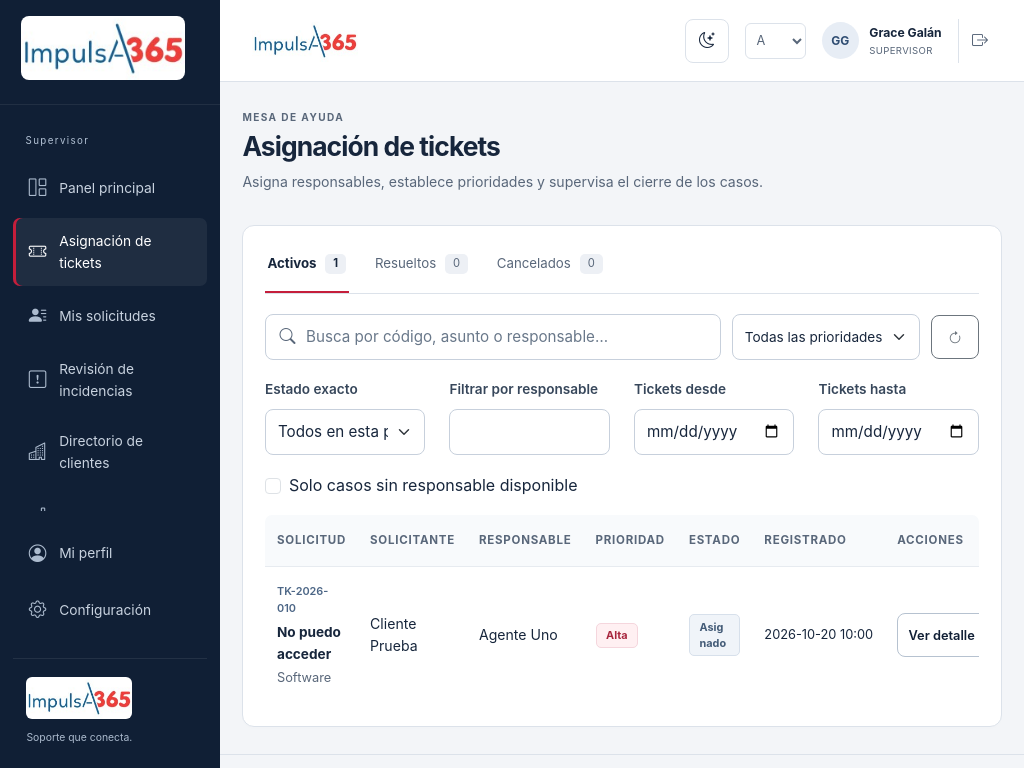
Test: Funciones por rol › el supervisor asigna un agente y prioridad y no recibe acciones de resolución técnica
Expected: the heading "Asignación de tickets" is shown, x1=242 y1=130 x2=500 y2=162
Click the button "Ver detalle" at (952, 635), box x1=897 y1=613 x2=1008 y2=657
(page scrolled)
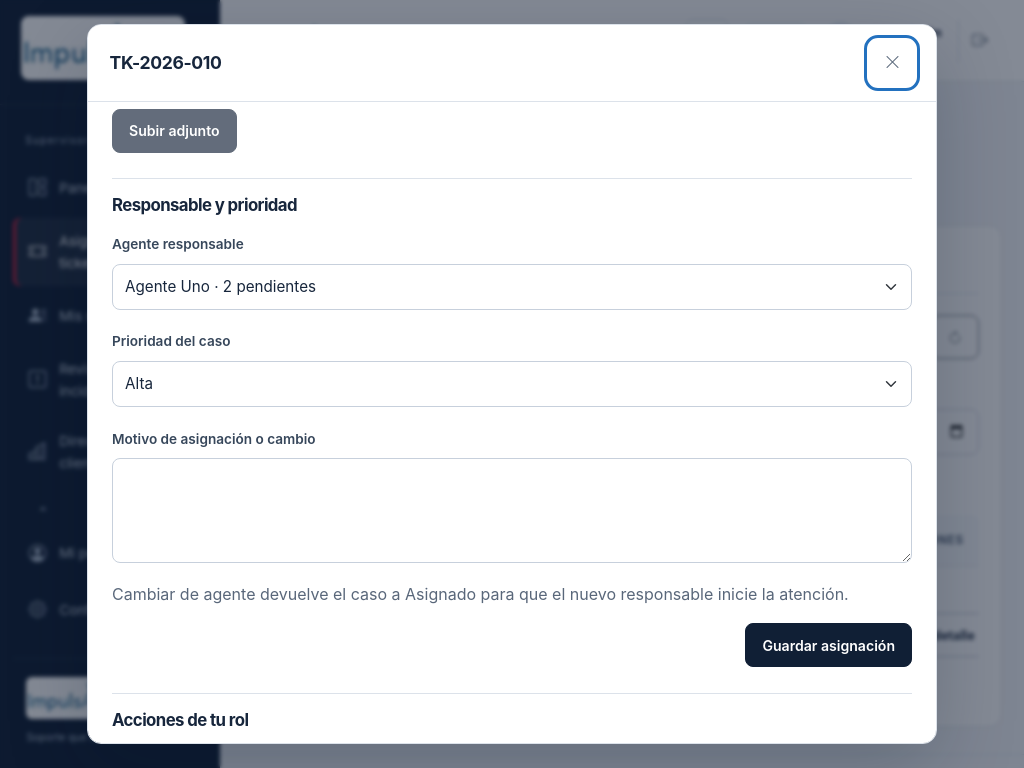
Result: the dropdown labelled "Agente responsable" shows "Agente Uno · 2 pendientes" at x1=112 y1=264 x2=912 y2=310
Select "Baja" in the dropdown labelled "Prioridad del caso" at (512, 384), box x1=112 y1=361 x2=912 y2=407
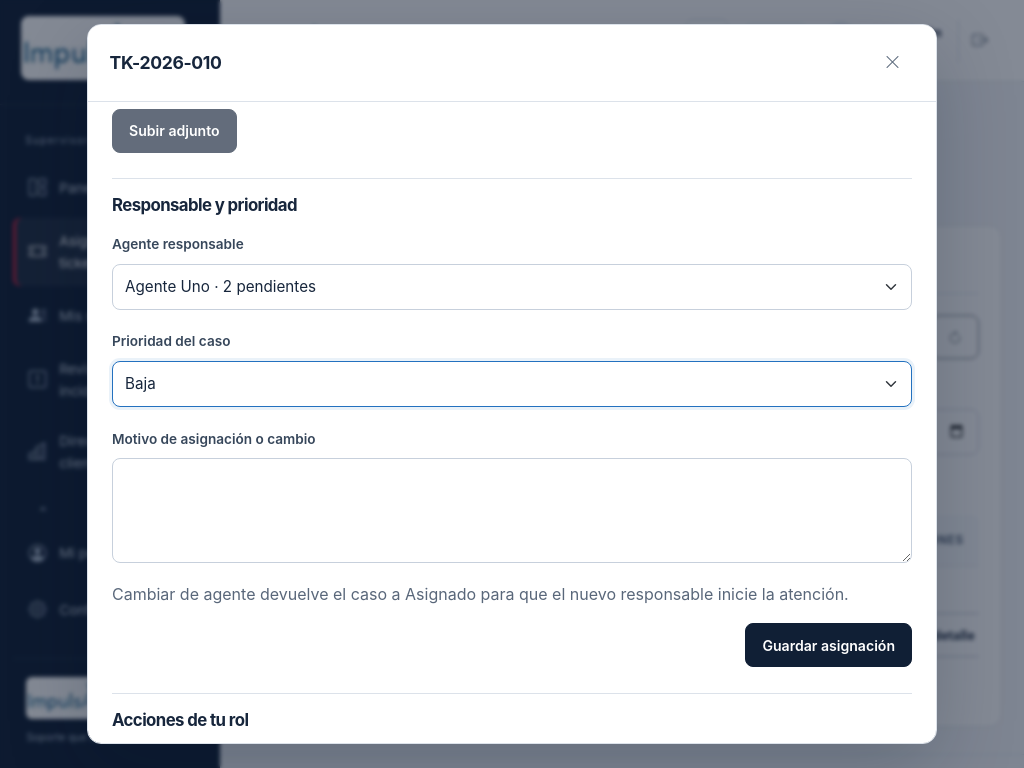
Type "Repartir la carga" into the text box labelled "Motivo de asignación o cambio" at (512, 511), box x1=112 y1=458 x2=912 y2=563
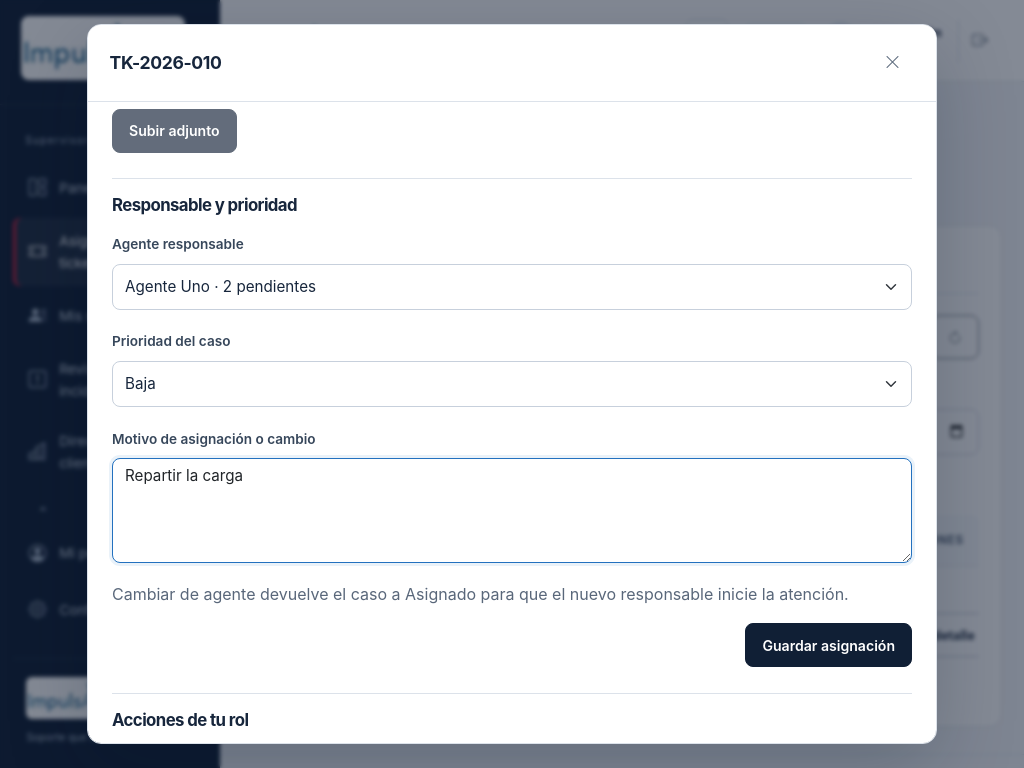
Click the button "Guardar asignación" at (829, 645), box x1=745 y1=623 x2=912 y2=667
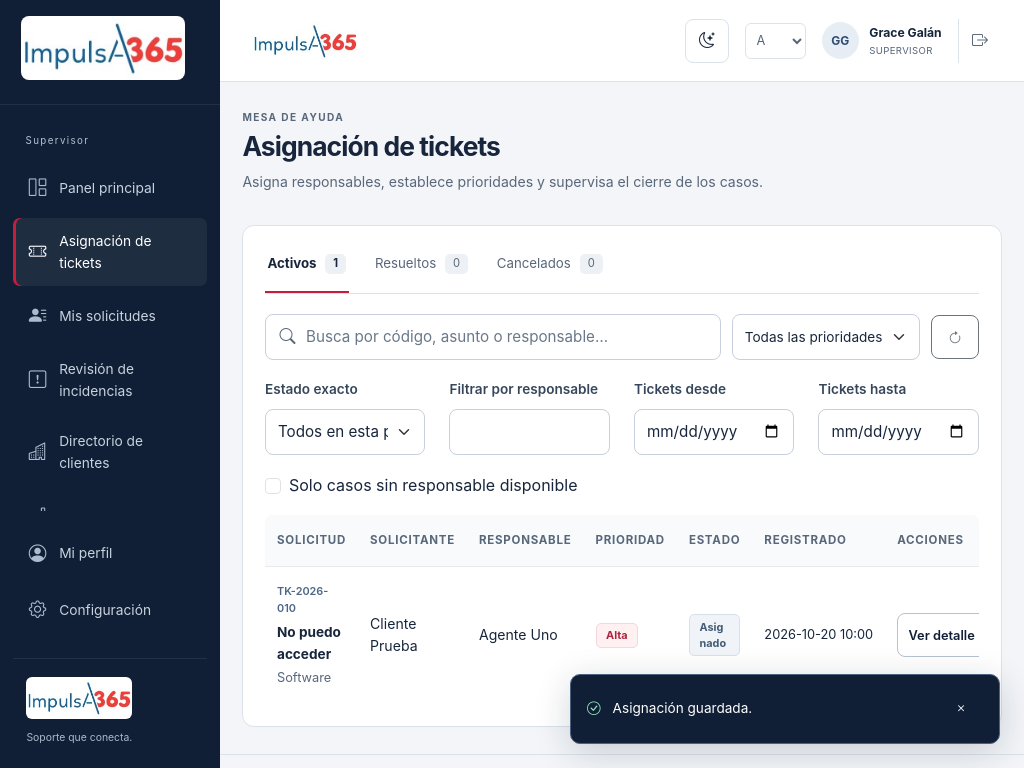
Result: the dialog is gone
